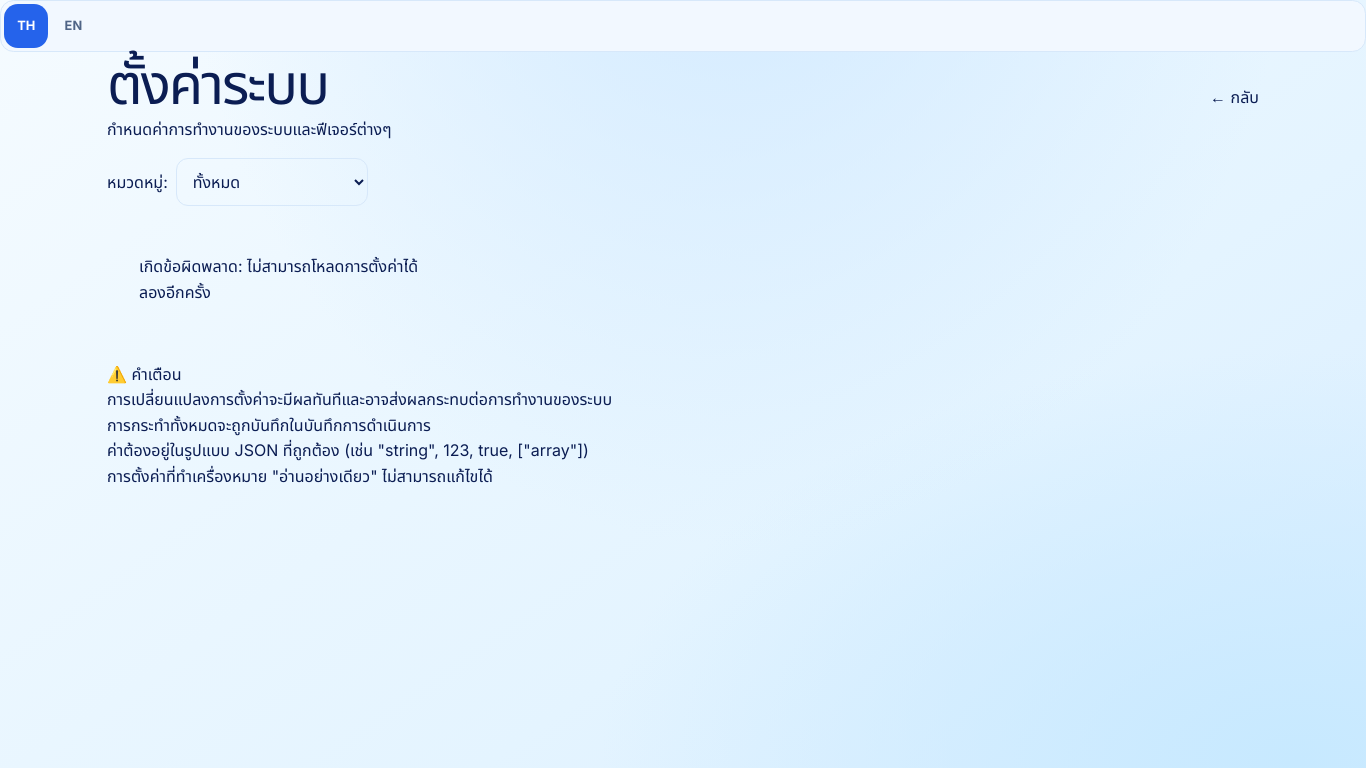
admin English localization › re-renders a stored settings error after switching locale
Expected: the message shows "ไม่สามารถโหลดการตั้งค่าได้", [247,256,418,276]
Step 1. Click the button "EN" → (73, 26), box [51,4,95,48]
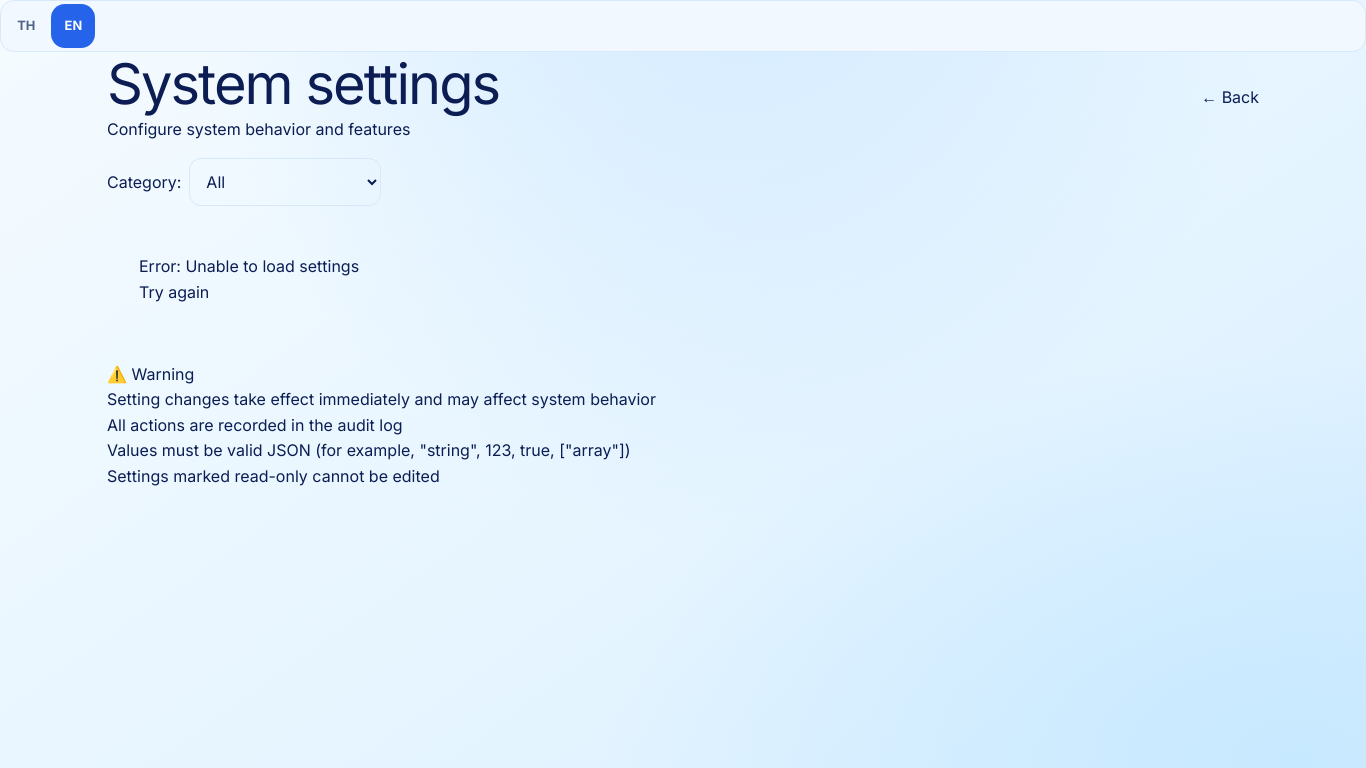
Now the message shows "Unable to load settings", box [185,256,359,276]
